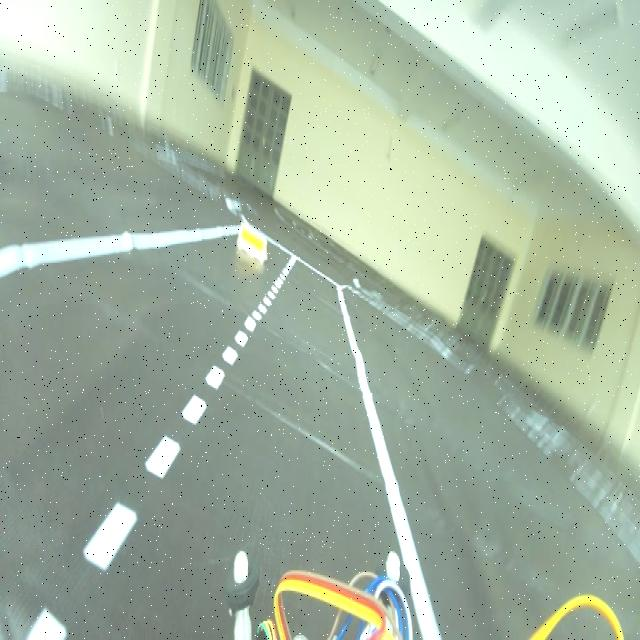roadblock: (240, 205, 267, 272)
